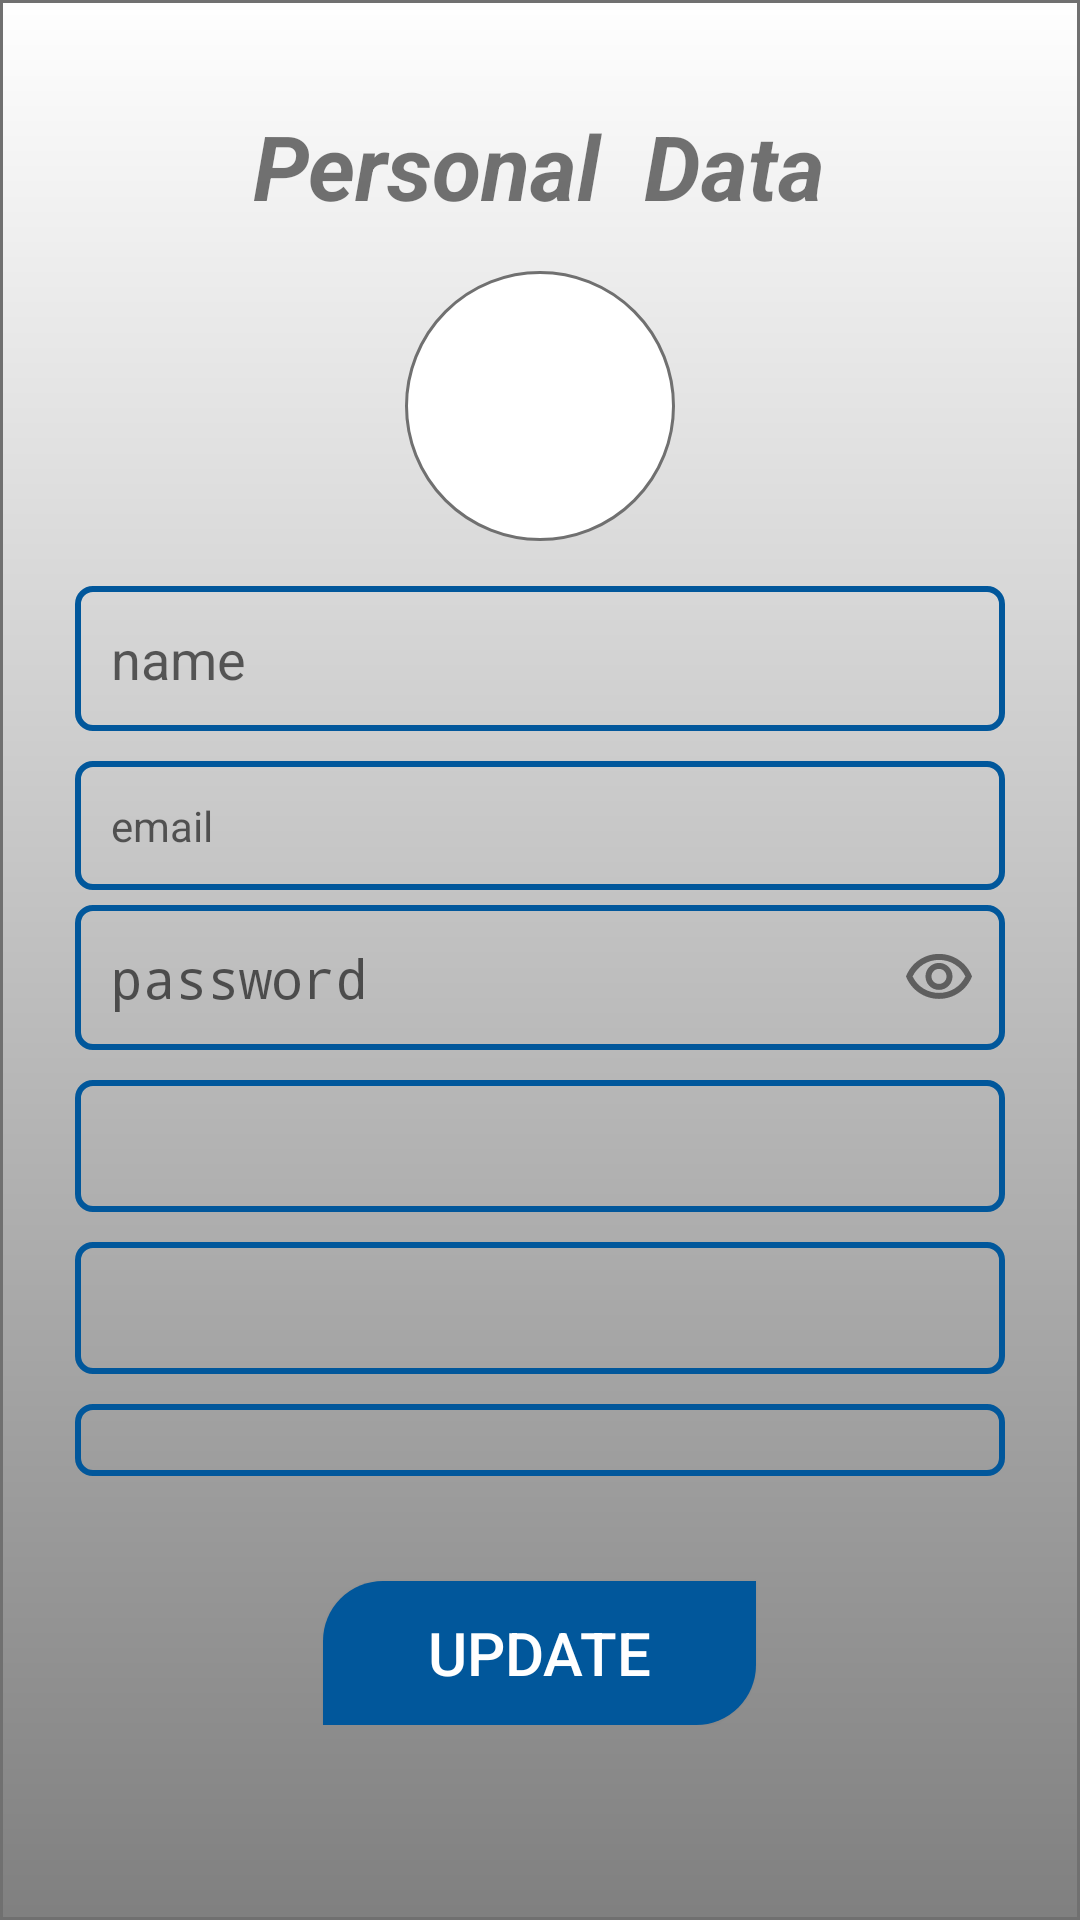

Where to tap for icons on this 1080px x 1920px app screen, as point (x, y):
visibility: point (939, 976)
